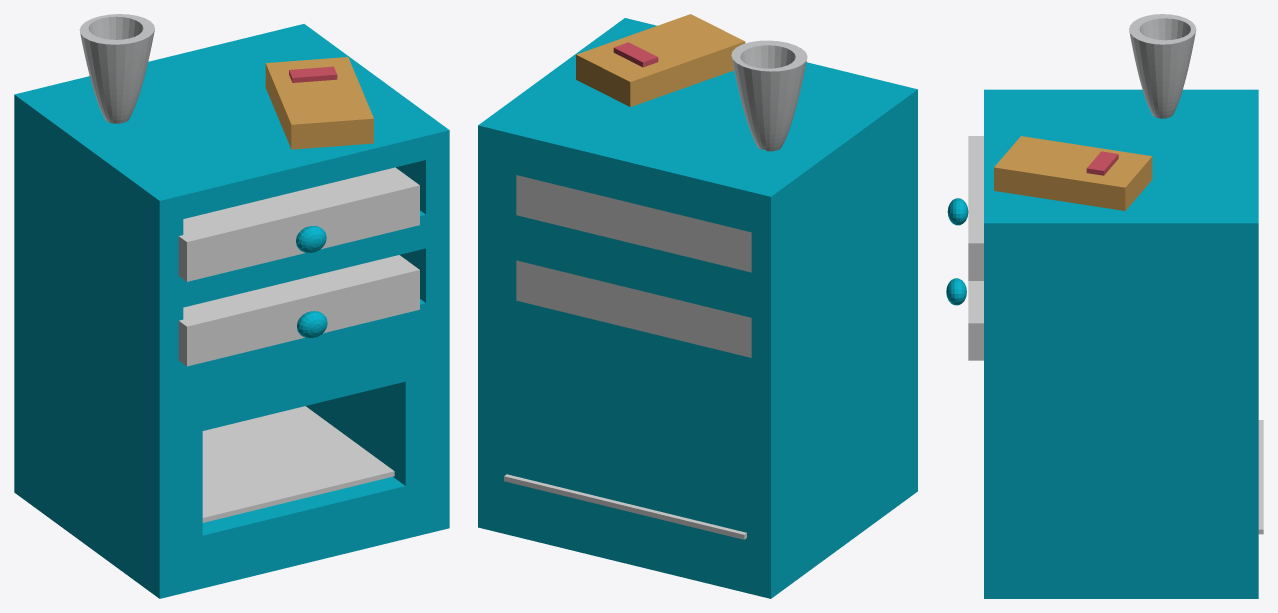
The model's file is Glorious Snicket-Maimu.glb.
3 renders of one model, left to right at view 1: azimuth 30°, elevation 25°; view 2: azimuth 150°, elevation 25°; view 3: azimuth 270°, elevation 25°, orthographic. The views are drawn at different scales.
Parts seen in each view (by area): view 1: Mesh_Mesh_head_geo.001_lambert2SG.001; view 2: Mesh_Mesh_head_geo.001_lambert2SG.001; view 3: Mesh_Mesh_head_geo.001_lambert2SG.001.
Boxes of the visible parts, x1,y1,x2,y2 form: Mesh_Mesh_head_geo.001_lambert2SG.001: (14,14,449,598); Mesh_Mesh_head_geo.001_lambert2SG.001: (478,14,917,598); Mesh_Mesh_head_geo.001_lambert2SG.001: (946,14,1263,598).
Size of the model in its own units: 61 by 98 by 61.27.
